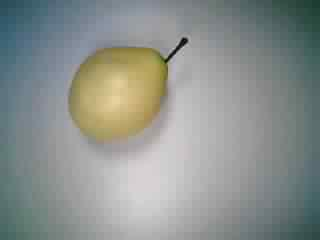pear: (57, 28, 199, 151)
